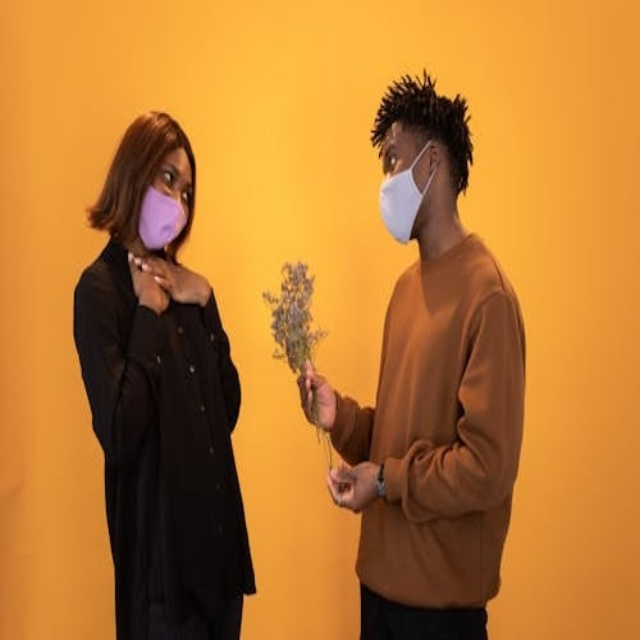Mascara: (379, 143, 438, 243), (136, 183, 186, 251)
Sin_gafas: (152, 156, 191, 202), (376, 133, 408, 175)
Sin_guantes: (136, 240, 214, 315), (125, 249, 173, 316), (300, 363, 337, 433), (327, 460, 373, 513)
